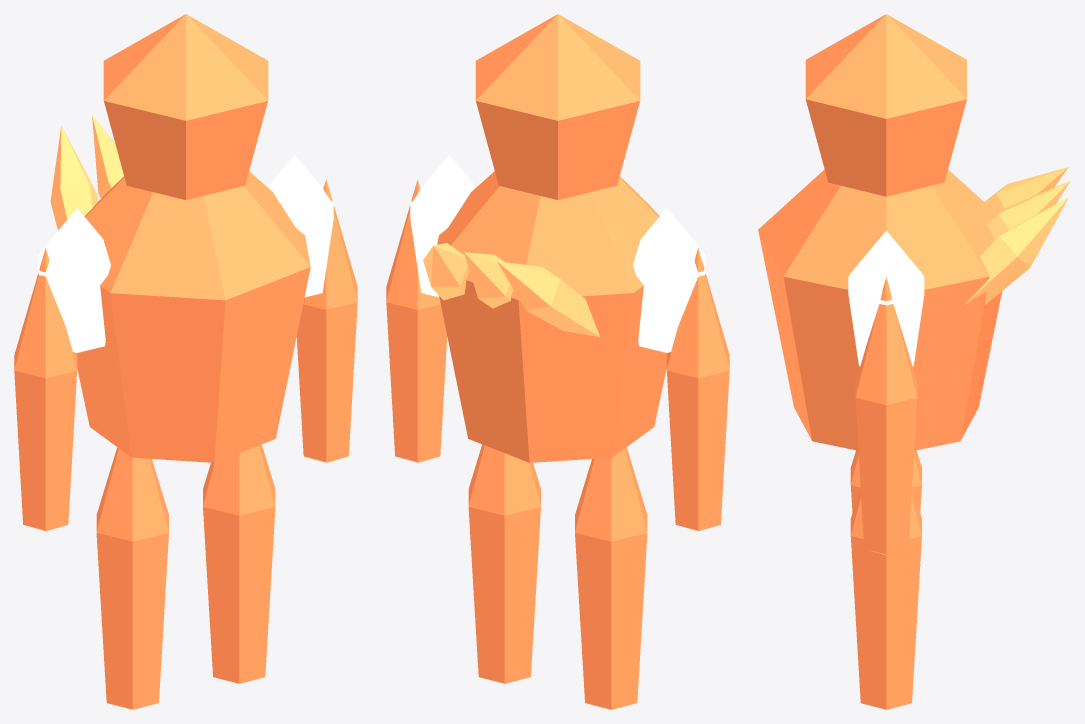
The model's file is deep-fracture-creature-CrystalRevenant-fire.glb.
The picture shows the model from 3 angles, left to right: view 1: azimuth 30°, elevation 25°; view 2: azimuth 150°, elevation 25°; view 3: azimuth 270°, elevation 25°; orthographic projection.
Parts seen in each view (by area): view 1: torso, helmet, leg-l, leg-r, arm-l, arm-r, armor-core-l, armor-core-r, back-crystal-0, back-crystal-1; view 2: torso, helmet, leg-l, leg-r, arm-l, arm-r, armor-core-l, armor-core-r, back-crystal-0, back-crystal-2, back-crystal-1; view 3: torso, helmet, arm-r, leg-r, armor-core-r, back-crystal-2, back-crystal-1, back-crystal-0, leg-l.
Boxes of the visible parts, x1,y1,x2,y2 form: torso: [76, 171, 310, 462]; helmet: [103, 14, 268, 199]; leg-l: [96, 447, 168, 709]; leg-r: [203, 444, 275, 683]; arm-l: [14, 248, 77, 531]; arm-r: [296, 179, 357, 462]; armor-core-l: [38, 208, 110, 352]; armor-core-r: [267, 155, 333, 297]; back-crystal-0: [50, 125, 98, 230]; back-crystal-1: [92, 115, 123, 198]; torso: [437, 171, 667, 462]; helmet: [475, 14, 640, 199]; leg-l: [575, 447, 647, 709]; leg-r: [468, 444, 540, 683]; arm-l: [666, 248, 729, 531]; arm-r: [386, 179, 447, 462]; armor-core-l: [633, 208, 705, 352]; armor-core-r: [410, 155, 476, 297]; back-crystal-0: [497, 261, 599, 337]; back-crystal-2: [423, 243, 469, 300]; back-crystal-1: [464, 252, 513, 308]; torso: [758, 169, 1002, 450]; helmet: [805, 14, 966, 196]; arm-r: [855, 277, 917, 555]; leg-r: [850, 487, 921, 709]; armor-core-r: [848, 230, 924, 366]; back-crystal-2: [964, 197, 1068, 305]; back-crystal-1: [987, 180, 1070, 239]; back-crystal-0: [984, 167, 1068, 213]; leg-l: [850, 450, 921, 512].
Size of the model in its own units: 1.42 by 2.7 by 1.14.
